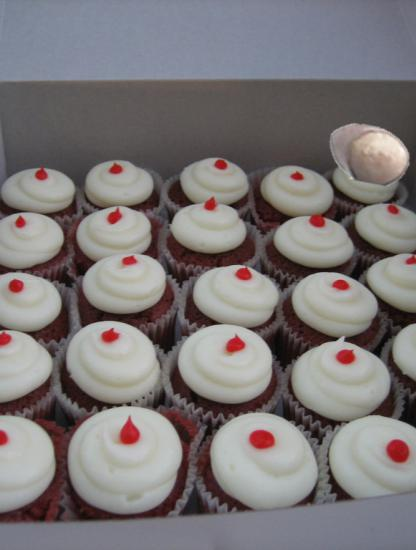Hazelnut: (327, 110, 413, 196)
